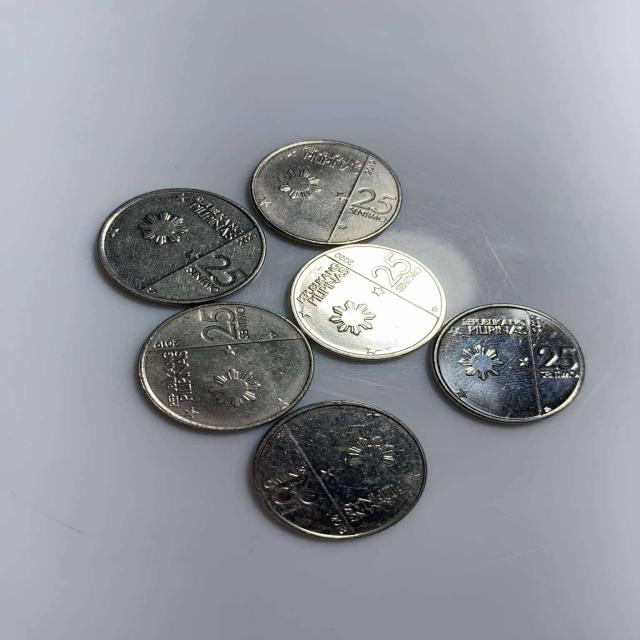25Cent_New_Front: (192, 308, 243, 347), (371, 251, 415, 291), (271, 474, 317, 512), (201, 252, 249, 286), (353, 187, 399, 217), (534, 346, 578, 372)
